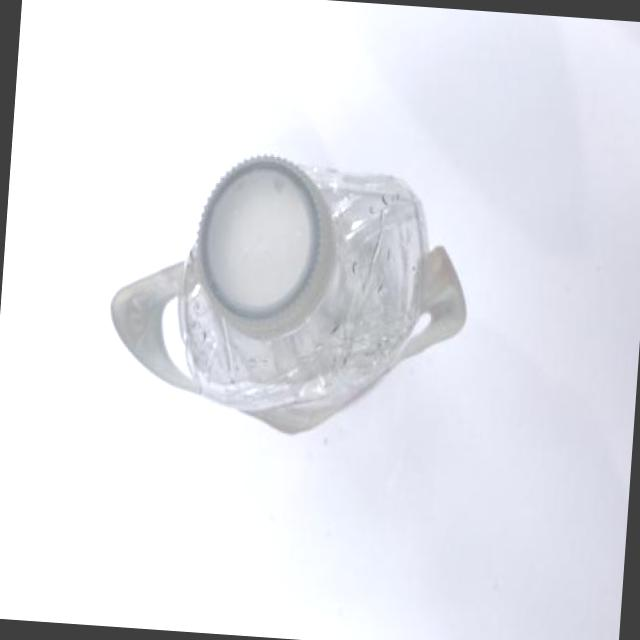Recycle: (99, 140, 482, 449)
